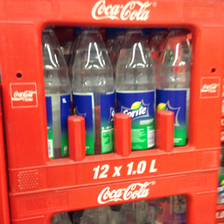soda: (71, 26, 115, 154), (115, 28, 156, 151), (157, 27, 191, 146), (42, 27, 71, 158)
